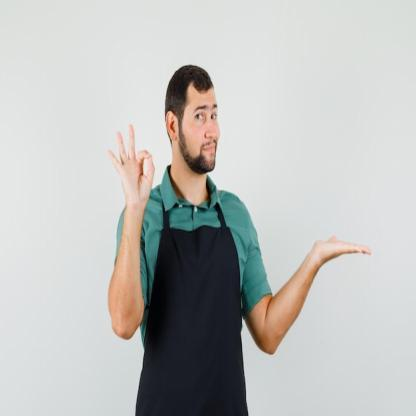ok: (107, 120, 158, 214)
